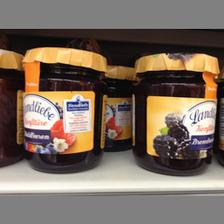Marmelade: (129, 51, 219, 175), (22, 46, 106, 174), (0, 46, 23, 170)
